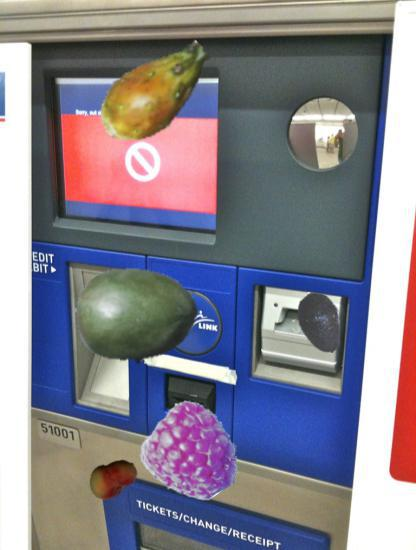Avocado: (287, 290, 353, 356)
Cactus: (92, 27, 220, 155)
Mango: (75, 253, 200, 378)
Peach: (86, 452, 138, 504)
Raspberry: (140, 404, 239, 503)
